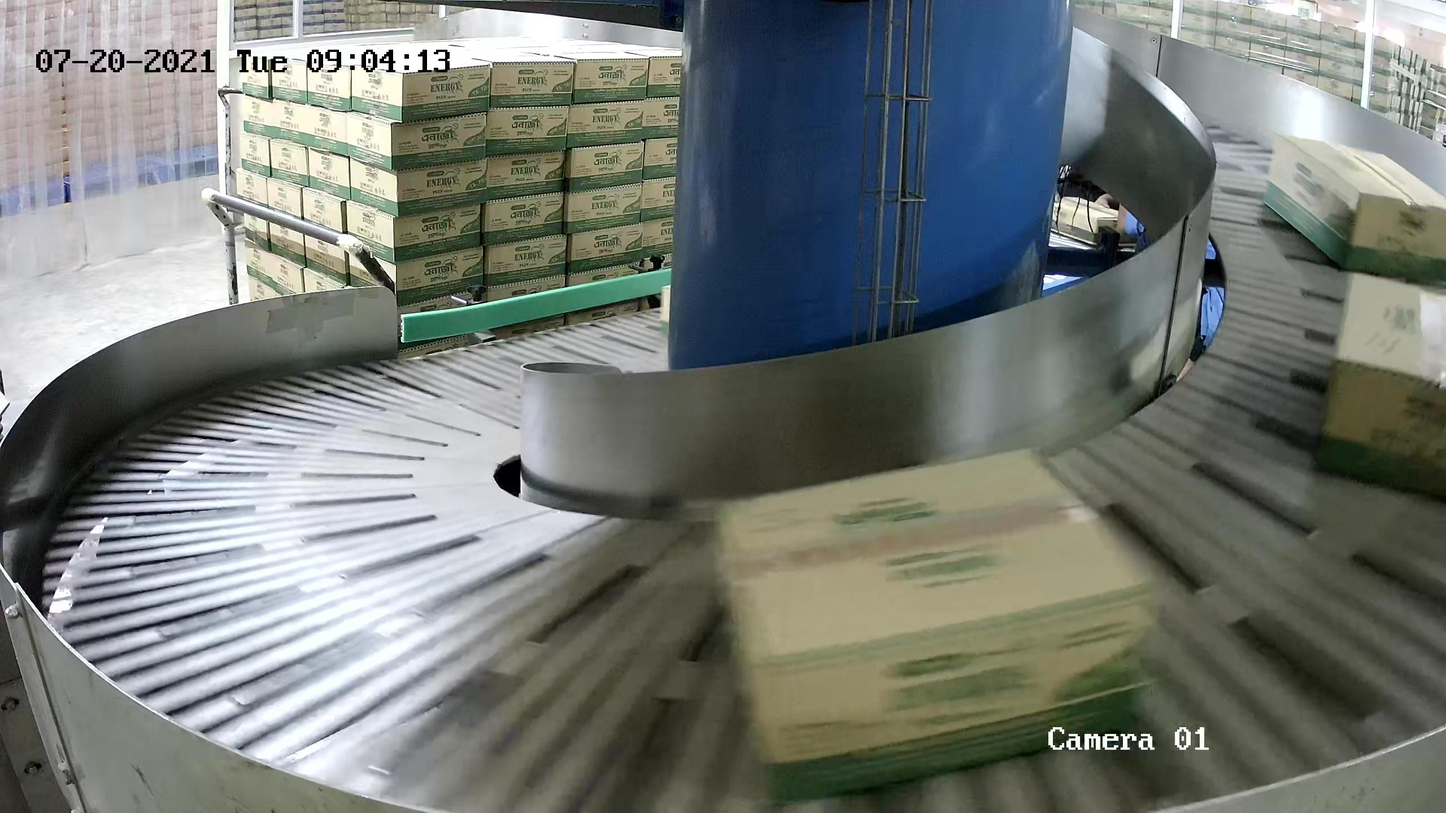Box: (709, 439, 1168, 806), (1311, 269, 1446, 503), (1260, 131, 1446, 287)
